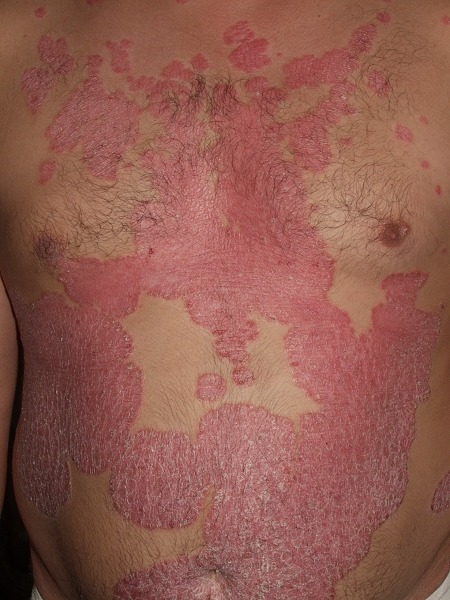Psoriasis: (134, 279, 450, 600), (121, 13, 371, 399), (6, 253, 143, 516), (21, 29, 69, 112), (215, 20, 270, 74), (189, 369, 234, 399)
